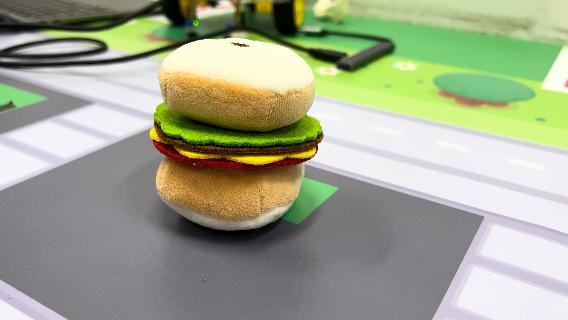sandwich: (149, 36, 325, 232)
